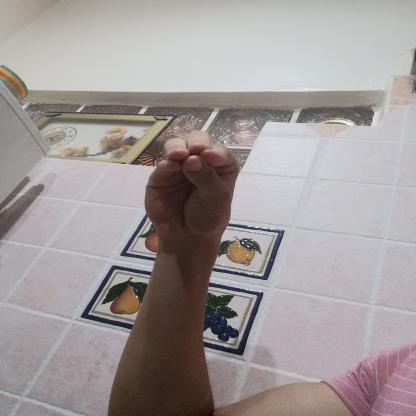HA: (128, 118, 252, 257)
